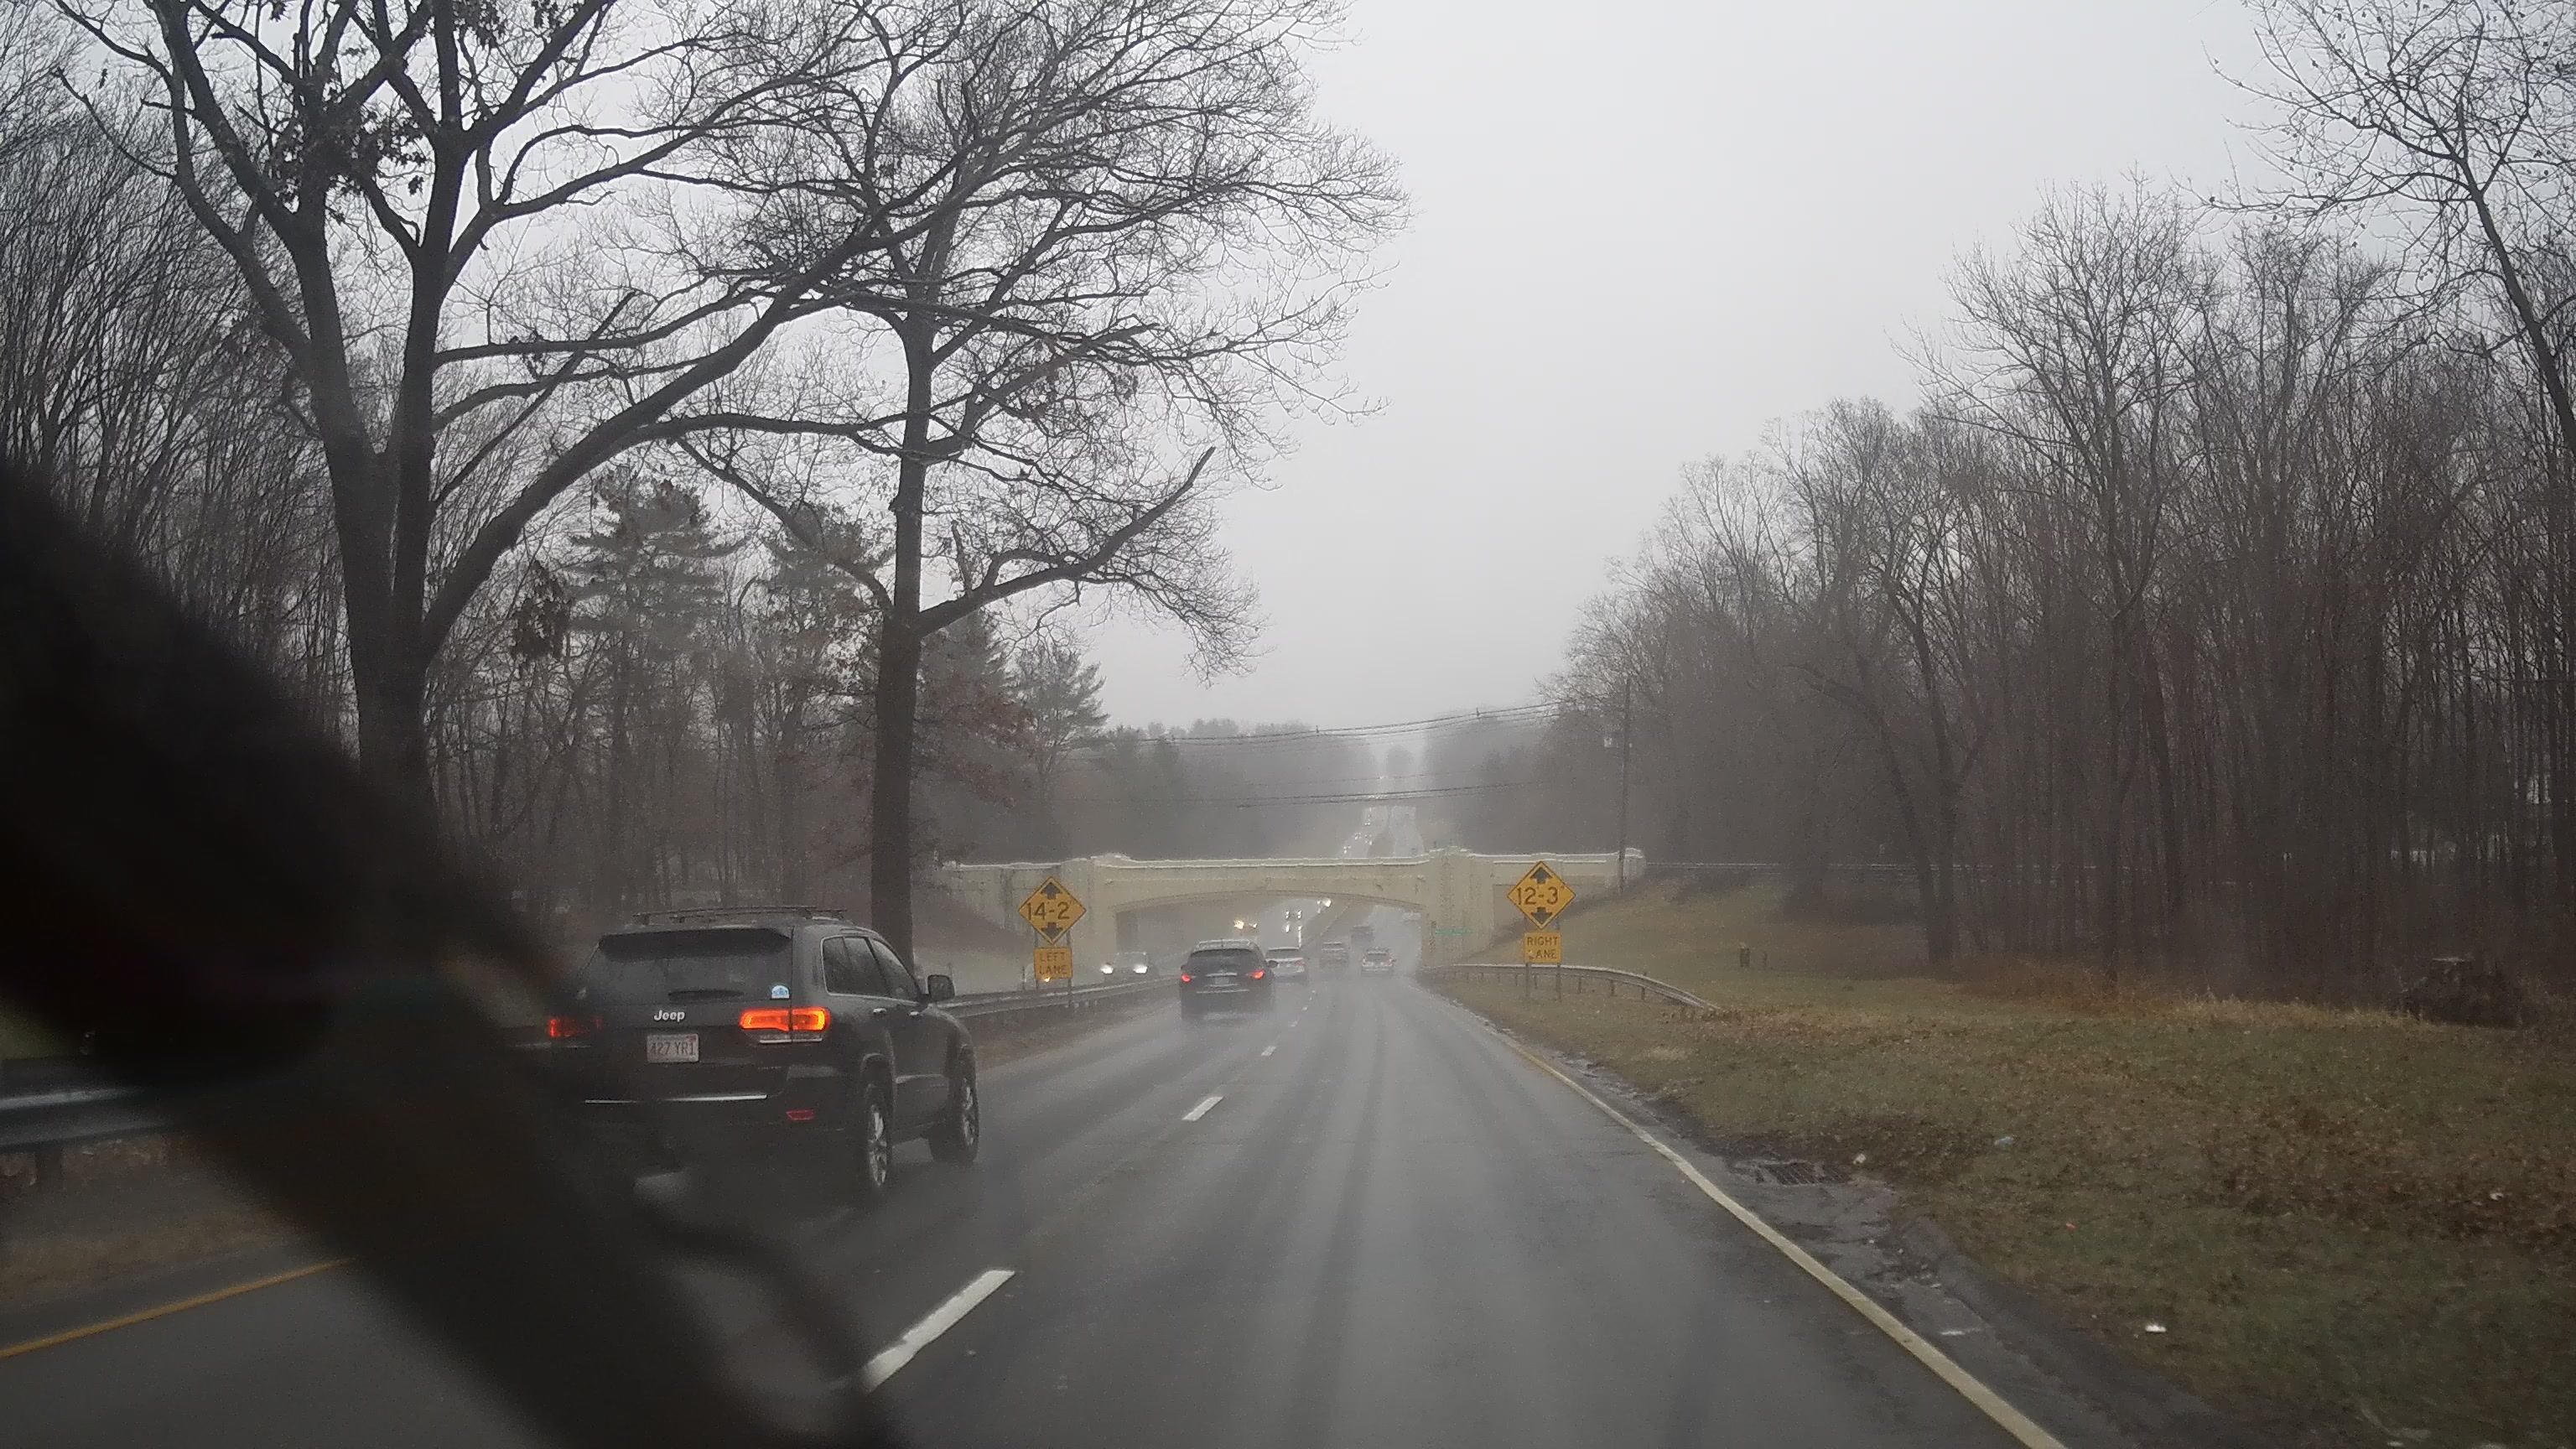low-clearance-sign: (1506, 860, 1576, 931), (1017, 876, 1086, 947)
